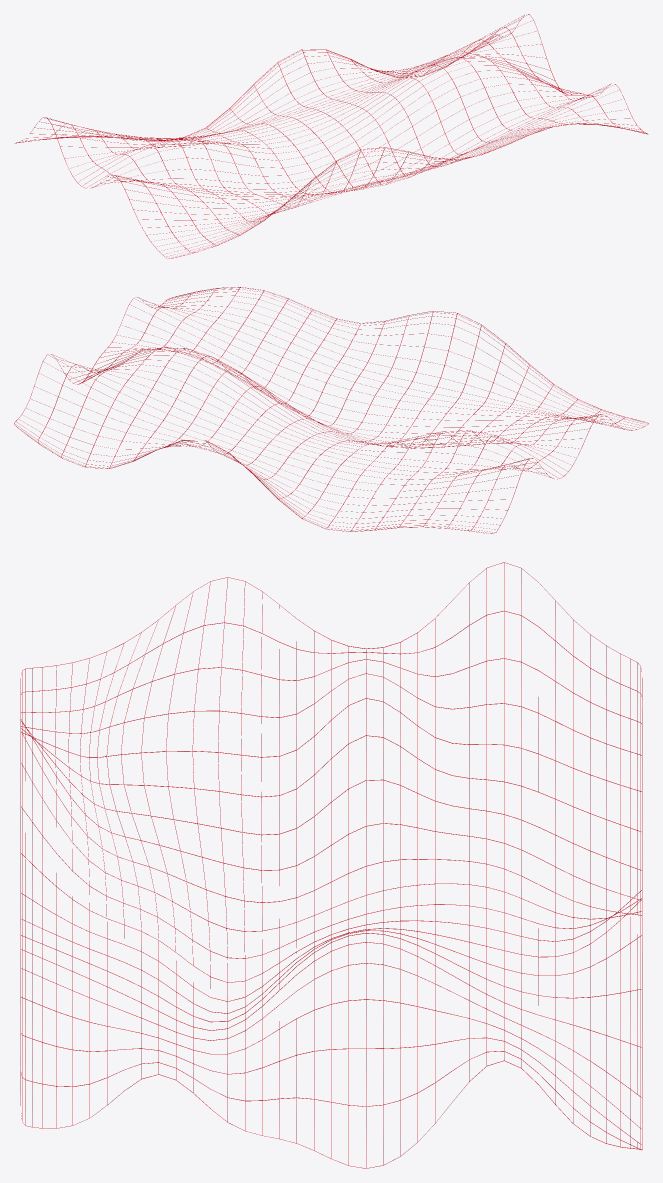
The model's file is deform_stripes2.gltf.
The picture shows the model from 3 angles, top to bottom: view 1: azimuth 30°, elevation 25°; view 2: azimuth 150°, elevation 25°; view 3: azimuth 270°, elevation 25°; orthographic projection. The views are drawn at different scales.
Parts seen in each view (by area): view 1: Plane; view 2: Plane; view 3: Plane.
Part boxes in pixels (x1,y1,x2,y2): Plane: [15, 14, 648, 258]; Plane: [14, 287, 648, 533]; Plane: [20, 562, 642, 1168].
Bounding box in the file's own units: 51.63 × 9.9 × 28.79.
